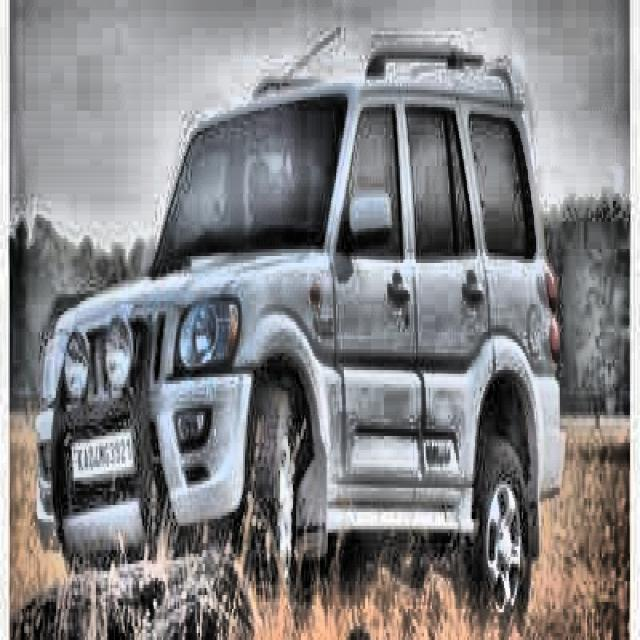license_plate: (70, 428, 134, 479)
